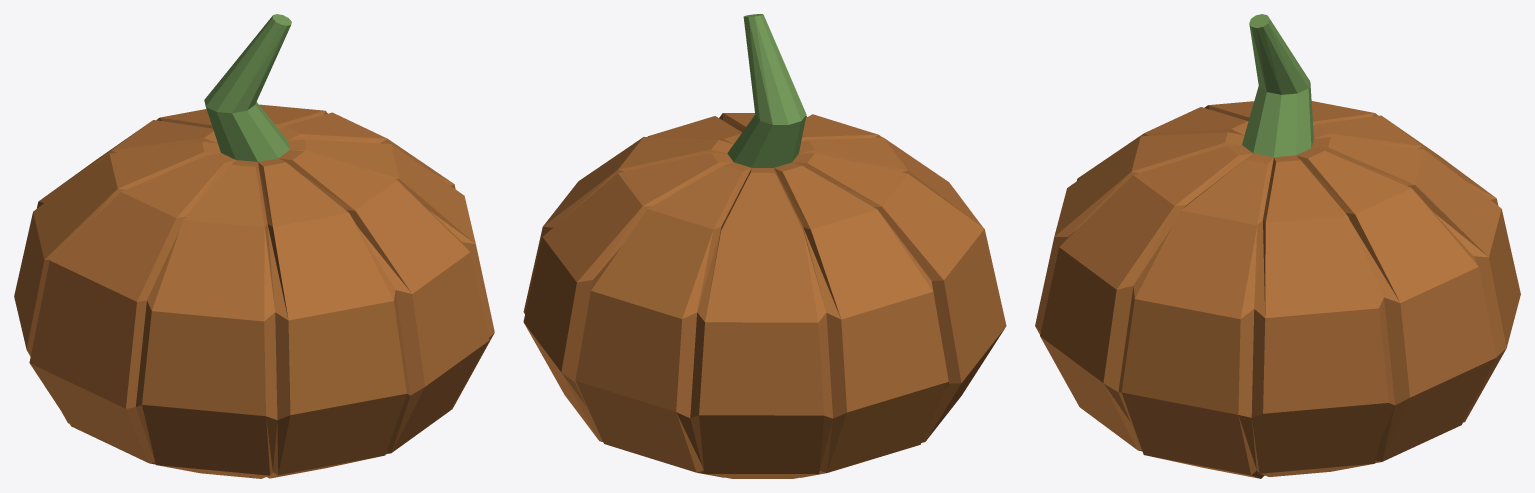
Rendered from produce_pumpkin.glb.
The picture shows the model from 3 angles, left to right: view 1: azimuth 30°, elevation 25°; view 2: azimuth 150°, elevation 25°; view 3: azimuth 270°, elevation 25°; orthographic projection. The views are drawn at different scales.
Bounding box in the file's own units: 1 × 0.9437 × 0.9839.
